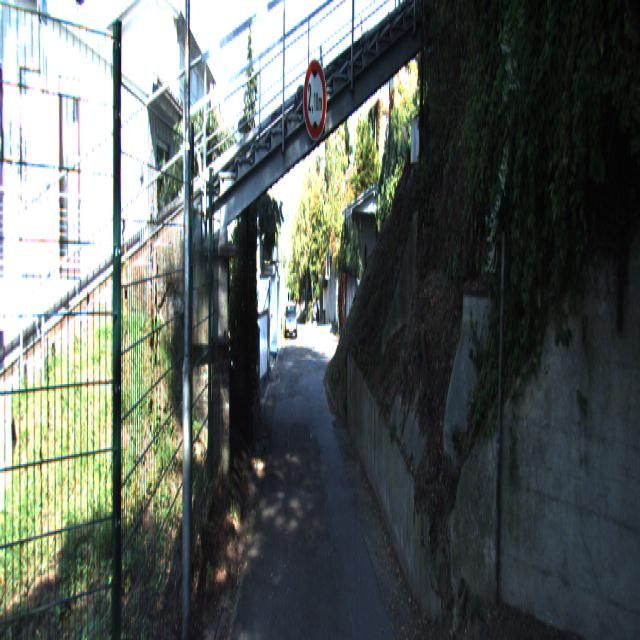Car: (285, 302, 297, 340)
